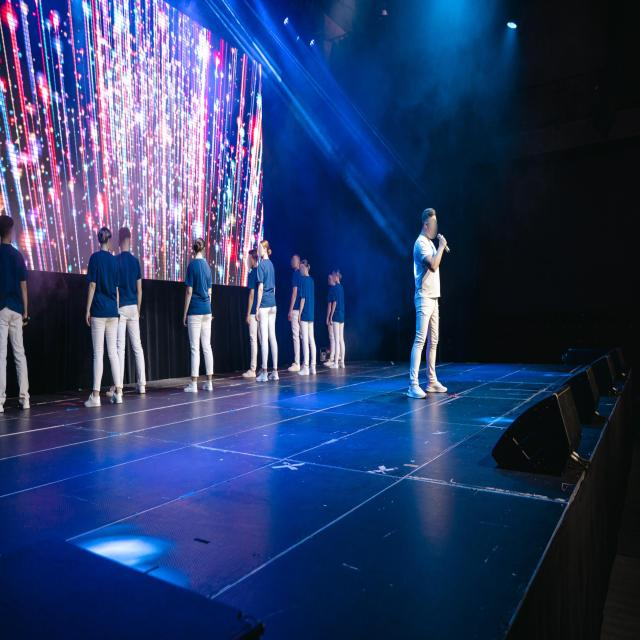Person: (81, 222, 127, 410), (406, 203, 449, 403), (111, 222, 151, 404), (0, 212, 32, 426), (178, 234, 220, 397), (256, 237, 280, 391), (245, 248, 268, 386), (298, 259, 318, 388), (330, 268, 350, 372), (287, 252, 303, 376), (326, 274, 340, 370)
